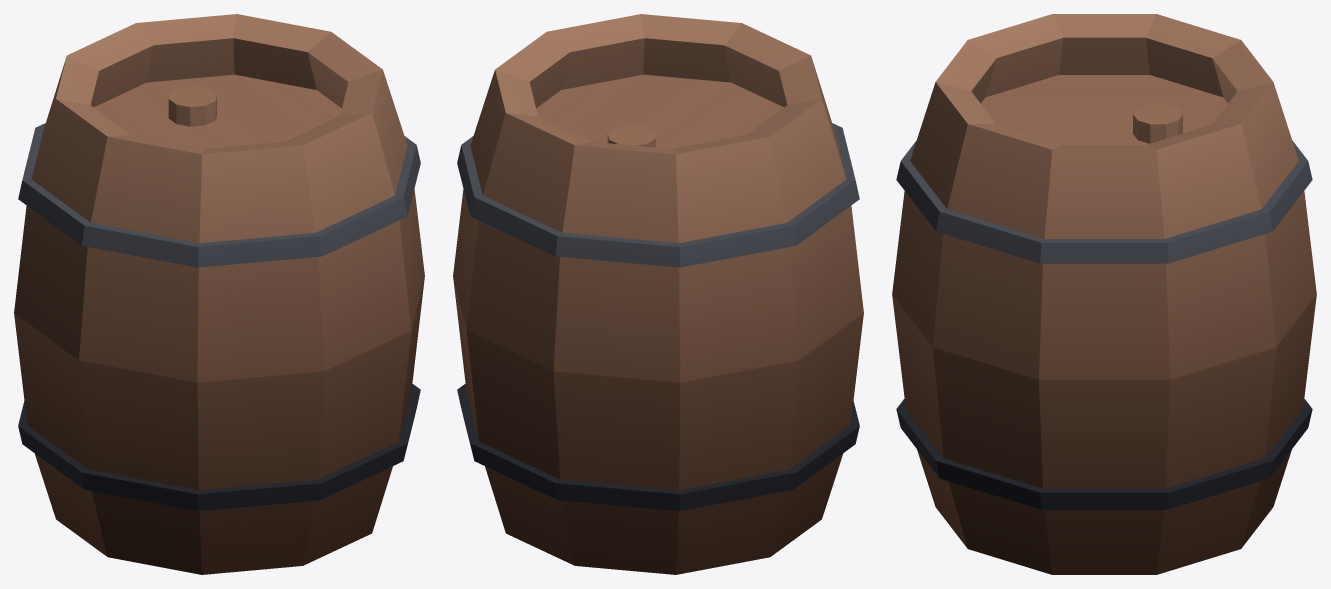
Rendered from beczka1.fbx.
3 views of the same model, side by side, from view 1: azimuth 30°, elevation 25°; view 2: azimuth 150°, elevation 25°; view 3: azimuth 270°, elevation 25° (orthographic).
Parts seen in each view (by area): view 1: beczka1; view 2: beczka1; view 3: beczka1.
Part boxes in pixels (left/top/right/bottom): beczka1: left=14, top=14, right=424, bottom=574; beczka1: left=453, top=14, right=863, bottom=574; beczka1: left=892, top=14, right=1316, bottom=574.
Size of the model in its own units: 104 by 121 by 109.
